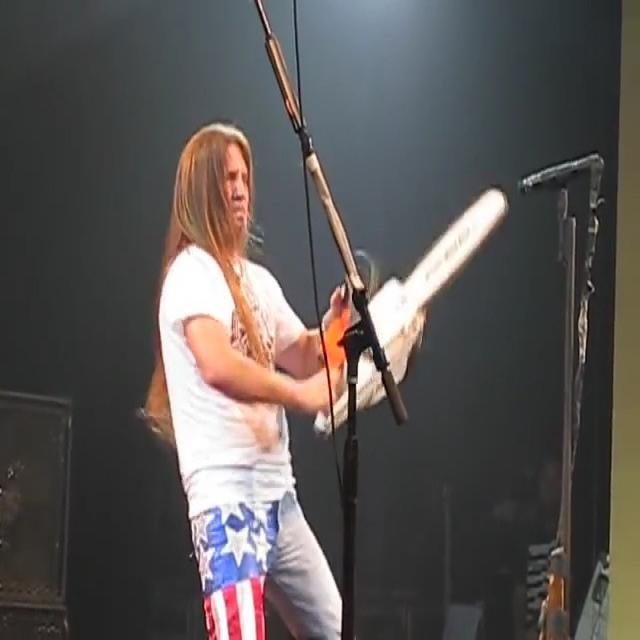Chainsaw: (294, 158, 520, 448)
